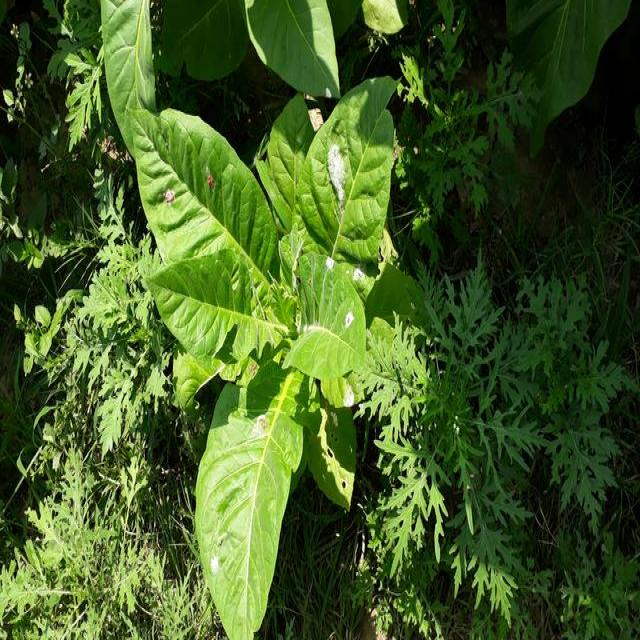crop: (127, 100, 419, 640), (161, 2, 408, 96), (506, 3, 628, 132), (98, 0, 166, 124)
